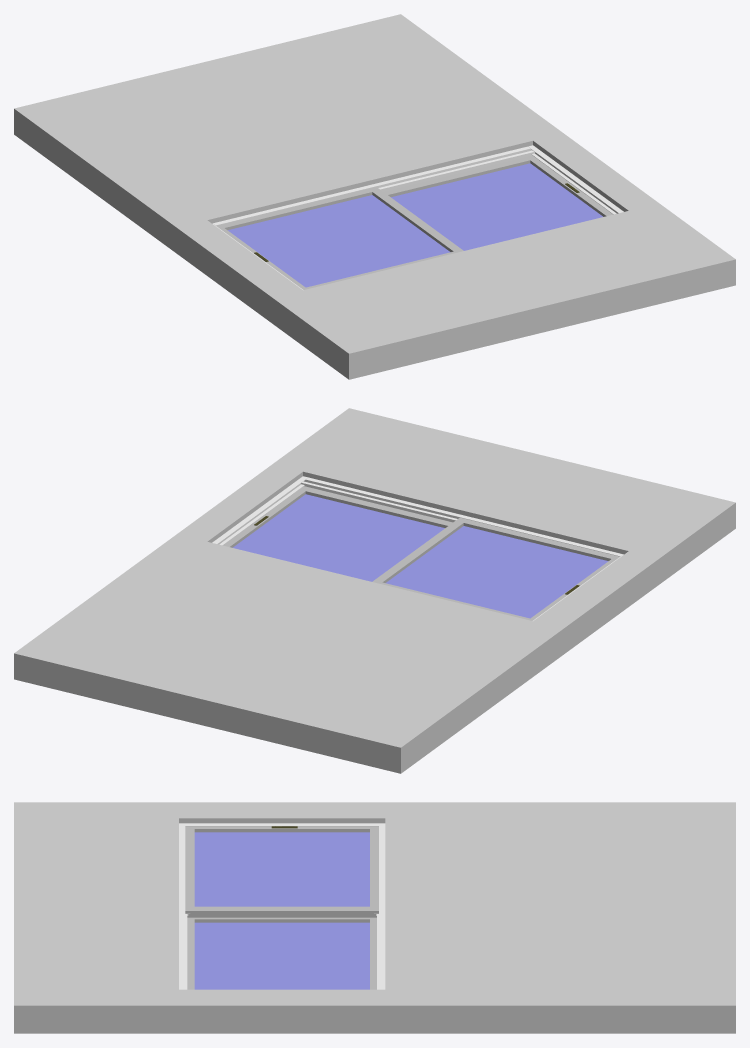
File: Window04.gltf
3 views of the same model, one above another, from view 1: azimuth 30°, elevation 25°; view 2: azimuth 150°, elevation 25°; view 3: azimuth 270°, elevation 25° (orthographic). The views are drawn at different scales.
Visible parts, largest first — view 1: SIP, Glass, WindowCasement, WindowFrame; view 2: SIP, Glass, WindowCasement, WindowFrame; view 3: SIP, Glass, WindowCasement, WindowFrame.
Boxes of the visible parts, x1,y1,x2,y2 form: SIP: (14,14,735,379); Glass: (228,163,602,287); WindowCasement: (216,155,612,289); WindowFrame: (212,145,623,290); SIP: (14,408,735,773); Glass: (233,494,608,618); WindowCasement: (223,486,619,620); WindowFrame: (212,476,623,620); SIP: (14,802,735,1033); Glass: (194,832,369,989); WindowCasement: (185,826,378,989); WindowFrame: (179,823,385,989).
Bounding box in the file's own units: 2.33 × 0.15 × 3.5.
